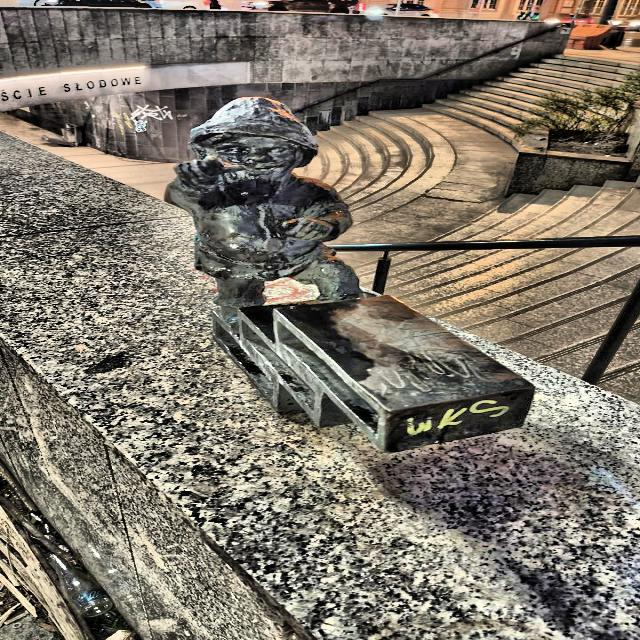Elementek: (167, 98, 533, 451)
